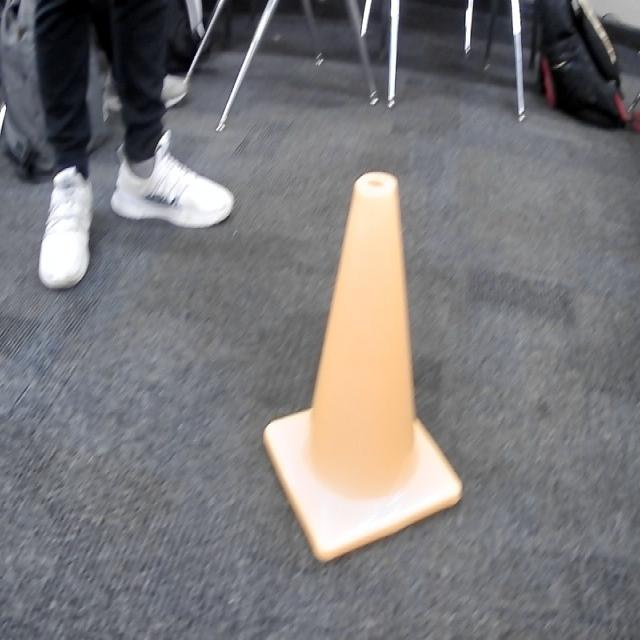cone: (265, 172, 464, 565)
